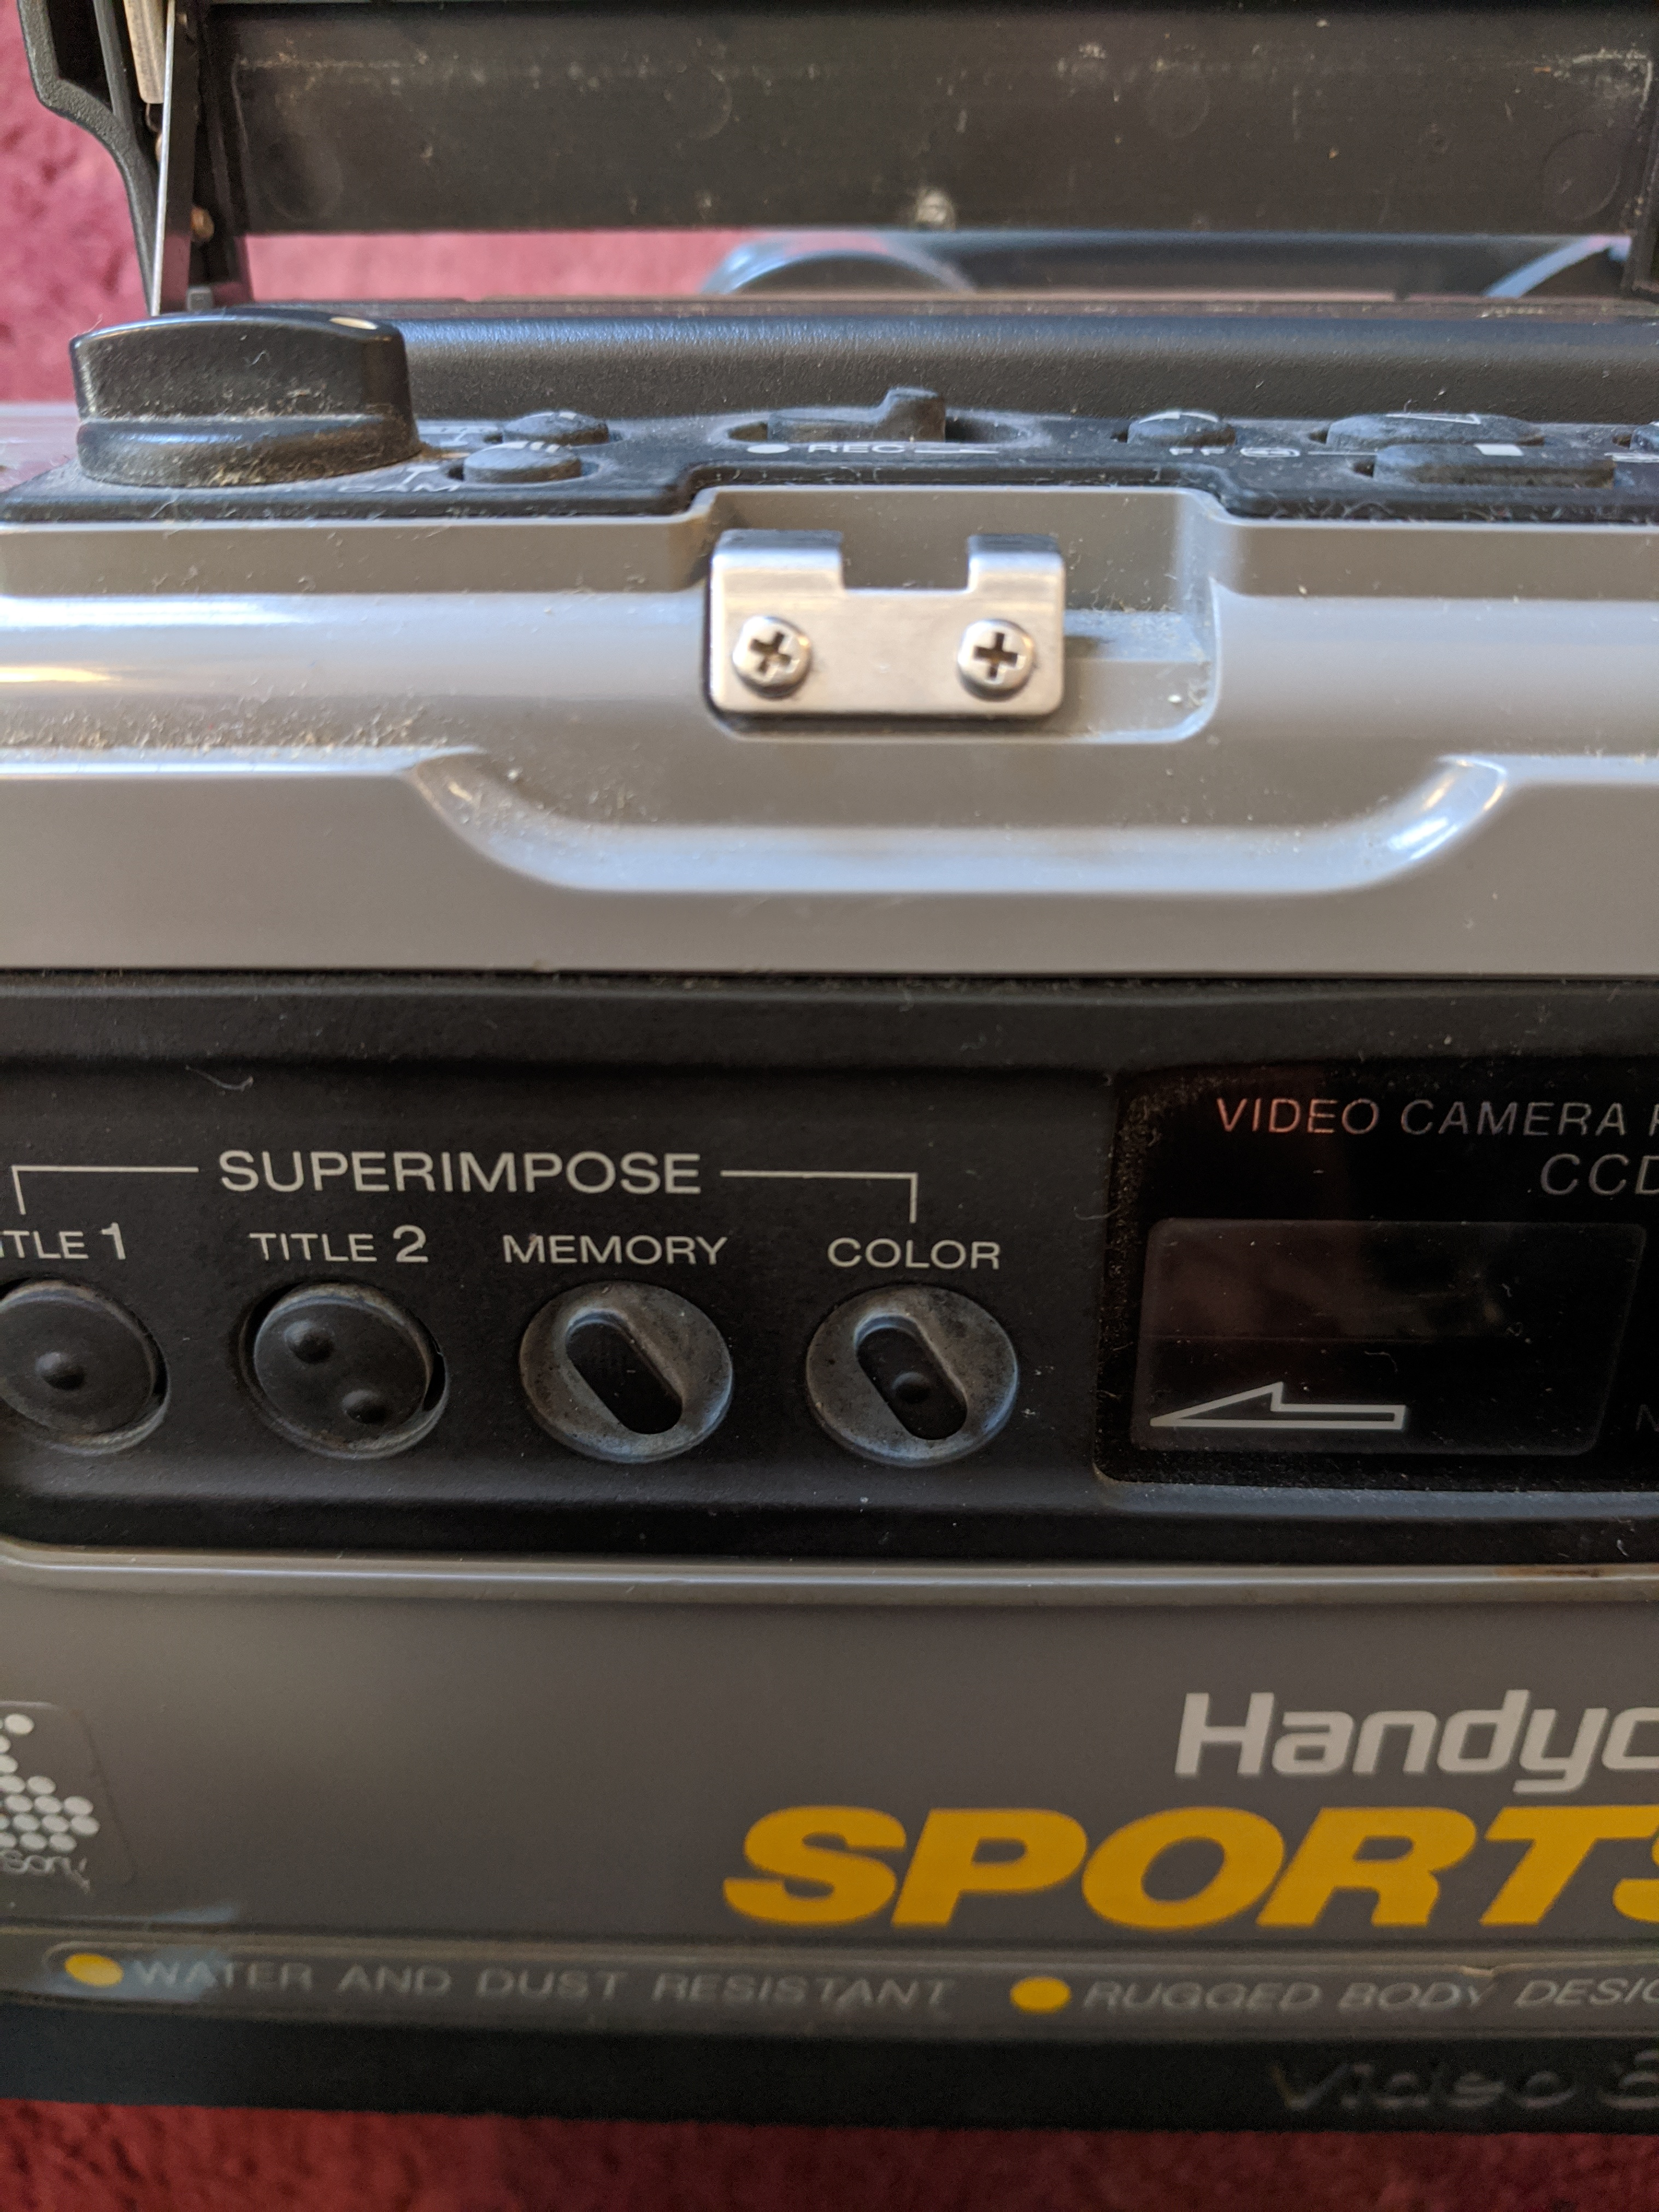cross_recessed_screw: (460, 1101, 615, 1238), (331, 108, 484, 244), (298, 1630, 422, 1742)
